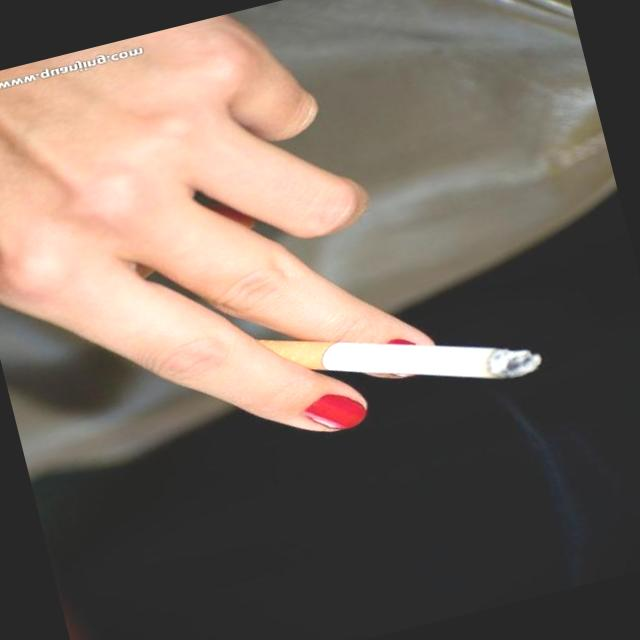cigarette: (133, 248, 552, 476)
